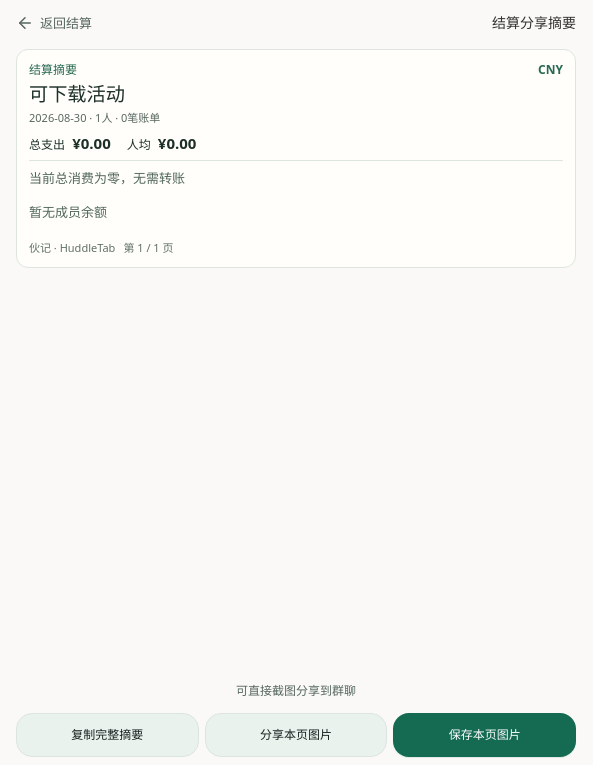
Test: ShareSummaryPage › 保存本页图片 成功后显示准确反馈并清理旧预览
What coordinates should you click on to do the following:
click the button "保存本页图片"
I would click on:
 (485, 735)
Its box is [393, 713, 576, 757].
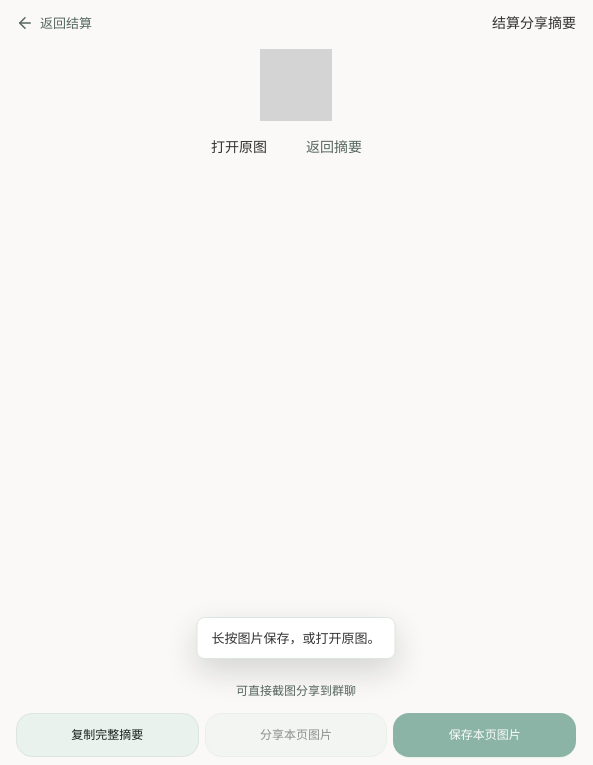
What coordinates should you click on to do the following:
click the button "返回摘要"
I would click on:
 (334, 147)
Its box is [287, 125, 381, 169].
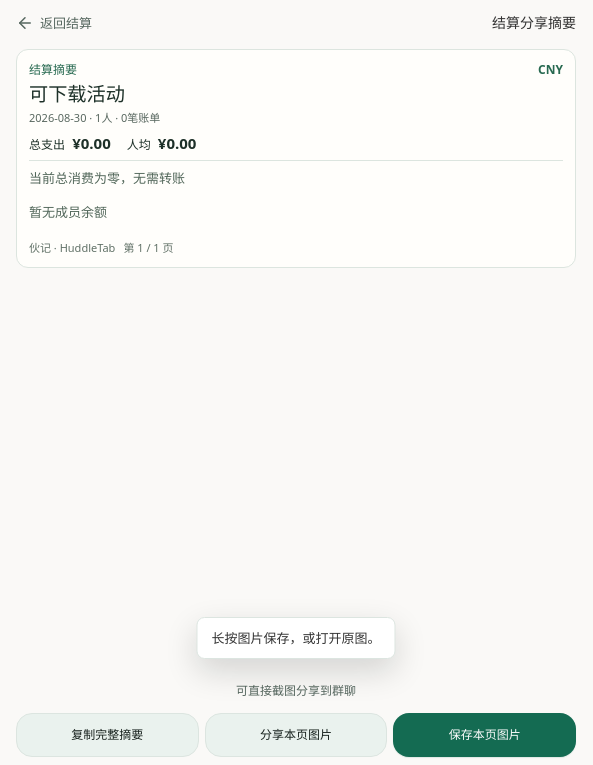
What coordinates should you click on to do the following:
click the button "保存本页图片"
I would click on:
 (485, 735)
Its box is [393, 713, 576, 757].
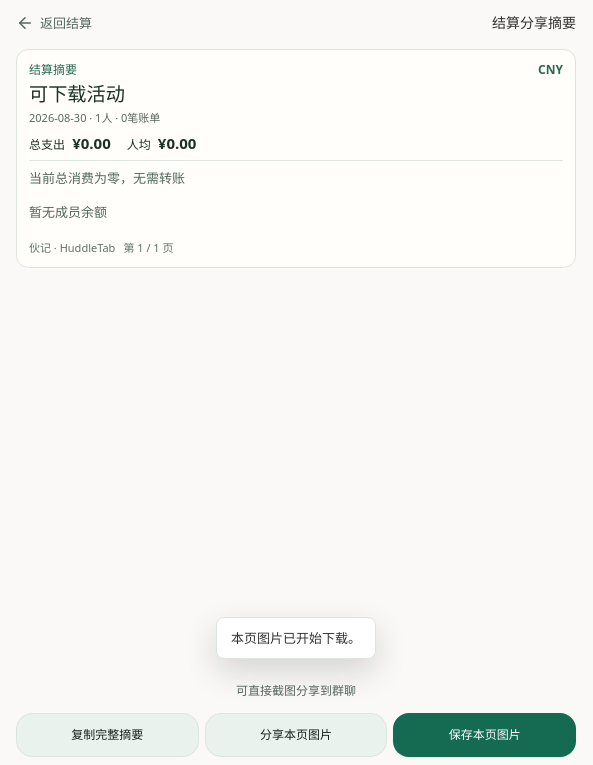
expect the message shows "本页图片已开始下载": met, box [231, 629, 361, 647]
